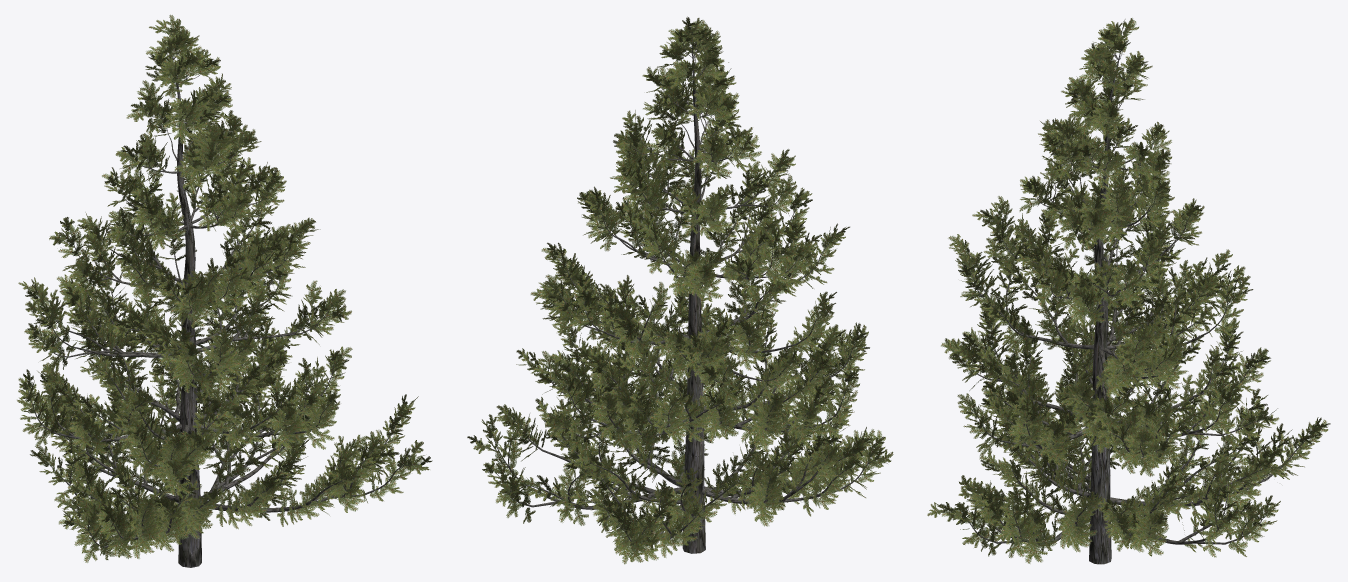
The model's file is PineTree.fbx.
The picture shows the model from 3 angles, left to right: view 1: azimuth 30°, elevation 25°; view 2: azimuth 150°, elevation 25°; view 3: azimuth 270°, elevation 25°; orthographic projection.
Parts seen in each view (by area): view 1: leaves, tree; view 2: leaves, tree; view 3: leaves, tree.
Boxes of the visible parts, box(x1,y1,x2,y2) form: leaves: box(17, 14, 432, 562); tree: box(28, 32, 418, 567); leaves: box(467, 16, 893, 564); tree: box(485, 33, 880, 553); leaves: box(927, 18, 1330, 563); tree: box(941, 32, 1314, 564).
Bounding box in the file's own units: 1247 × 1242 × 1807.
